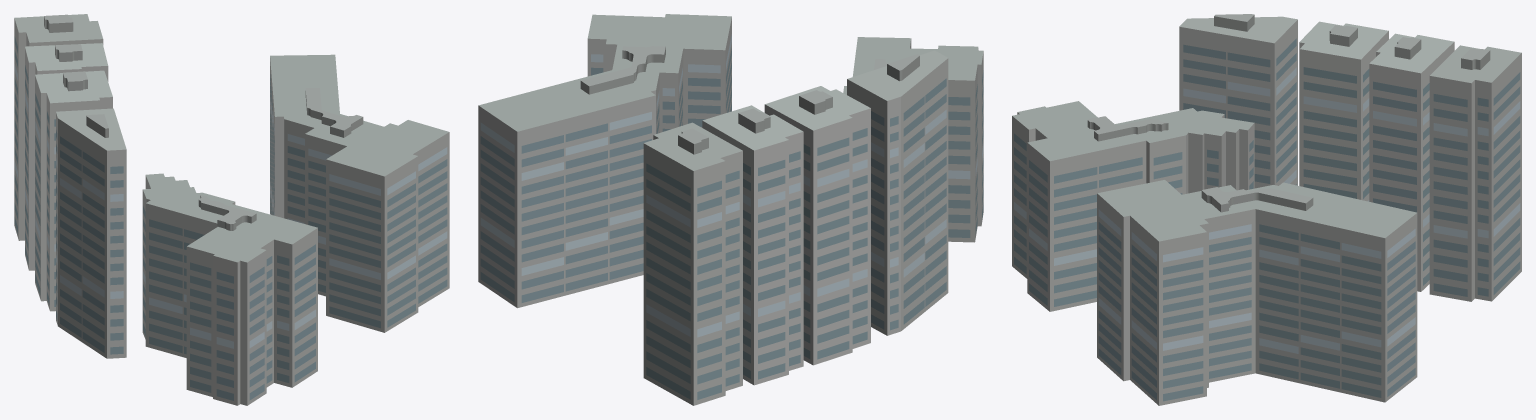
Rendered from apt-a15809401.glb.
The picture shows the model from 3 angles, left to right: view 1: azimuth 30°, elevation 25°; view 2: azimuth 150°, elevation 25°; view 3: azimuth 270°, elevation 25°; orthographic projection. The views are drawn at different scales.
Parts seen in each view (by area): view 1: apt-a15809401; view 2: apt-a15809401; view 3: apt-a15809401.
Boxes of the visible parts, x1,y1,x2,y2 form: apt-a15809401: (14,14,449,405); apt-a15809401: (478,14,983,405); apt-a15809401: (1012,14,1521,405).
Bounding box in the file's own units: 76.52 × 47.81 × 96.65.
